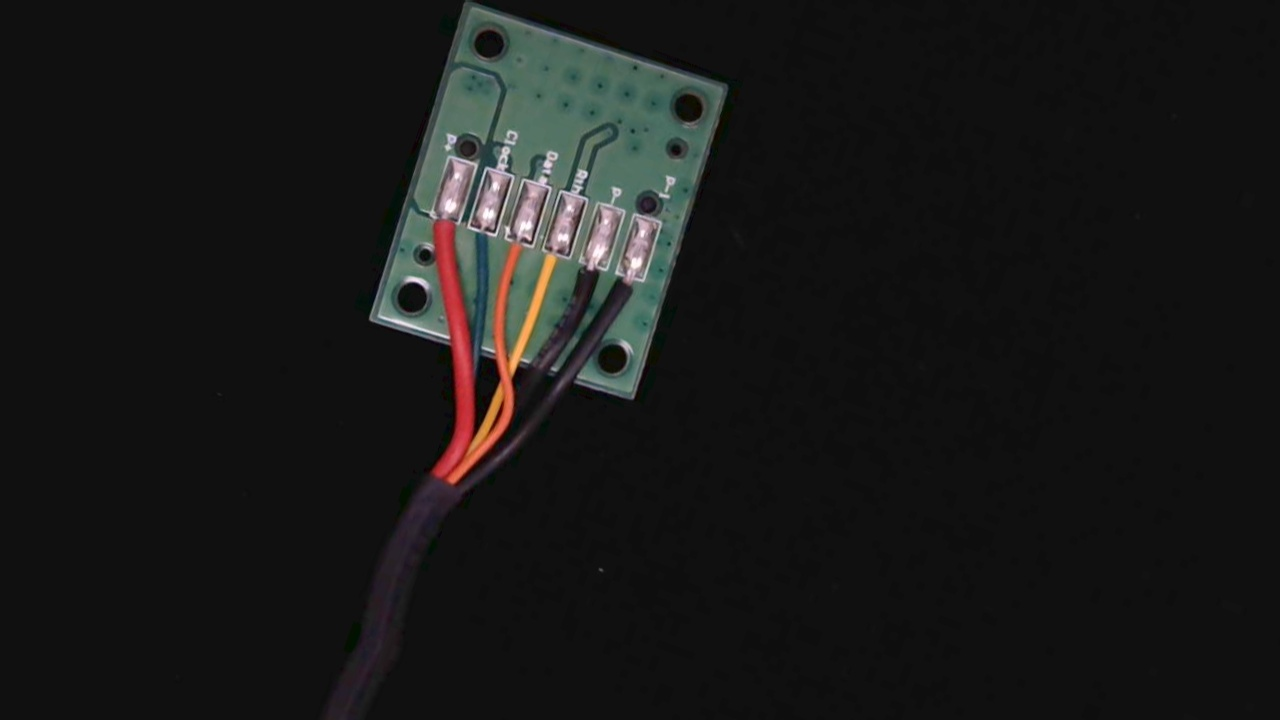Black: (557, 244, 614, 324)
Black1: (596, 258, 650, 332)
Green: (451, 207, 502, 273)
Orange: (485, 219, 539, 298)
Red: (416, 196, 467, 263)
Yellow: (520, 231, 579, 312)
